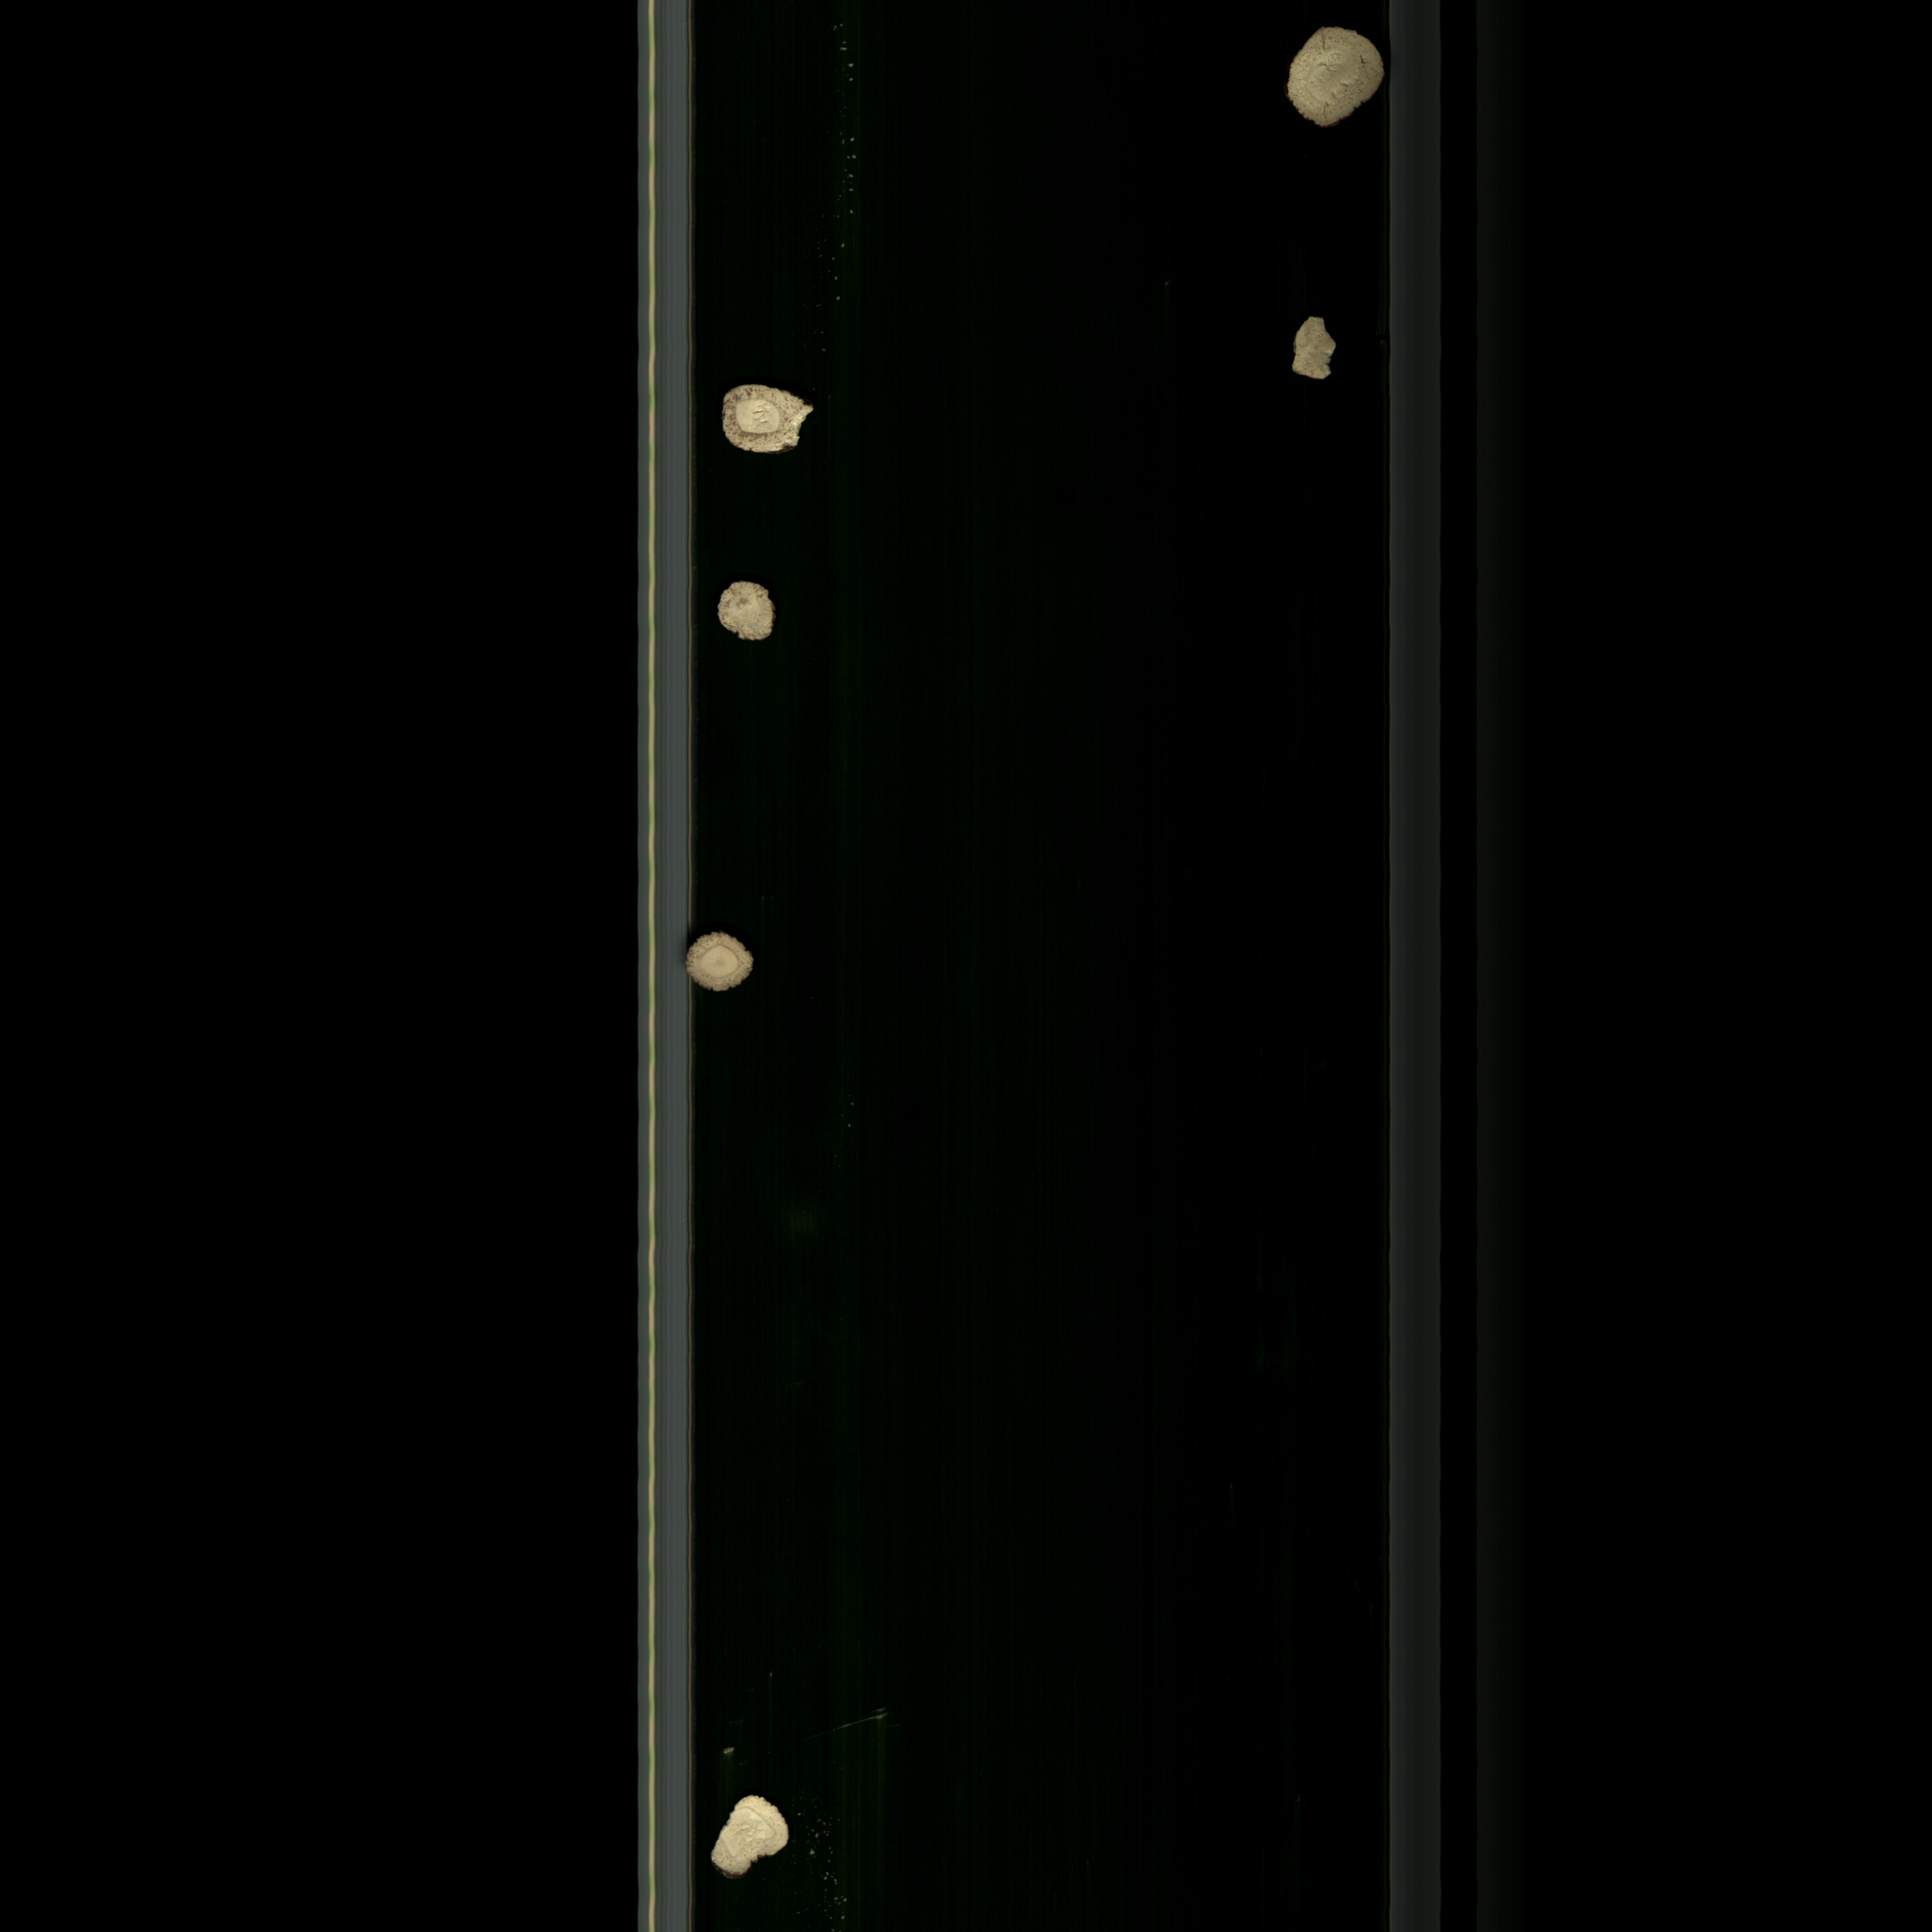debris: (706, 1787, 793, 1884)
distortion: (704, 571, 794, 651)
dreg: (1281, 308, 1346, 396)
moldy: (1286, 21, 1385, 131), (713, 384, 826, 464)
